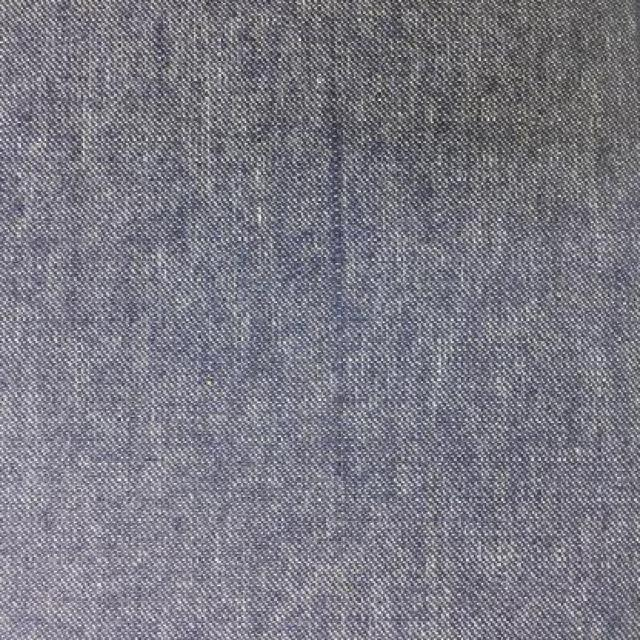pulled_or_thick_thread: (319, 19, 360, 439)
